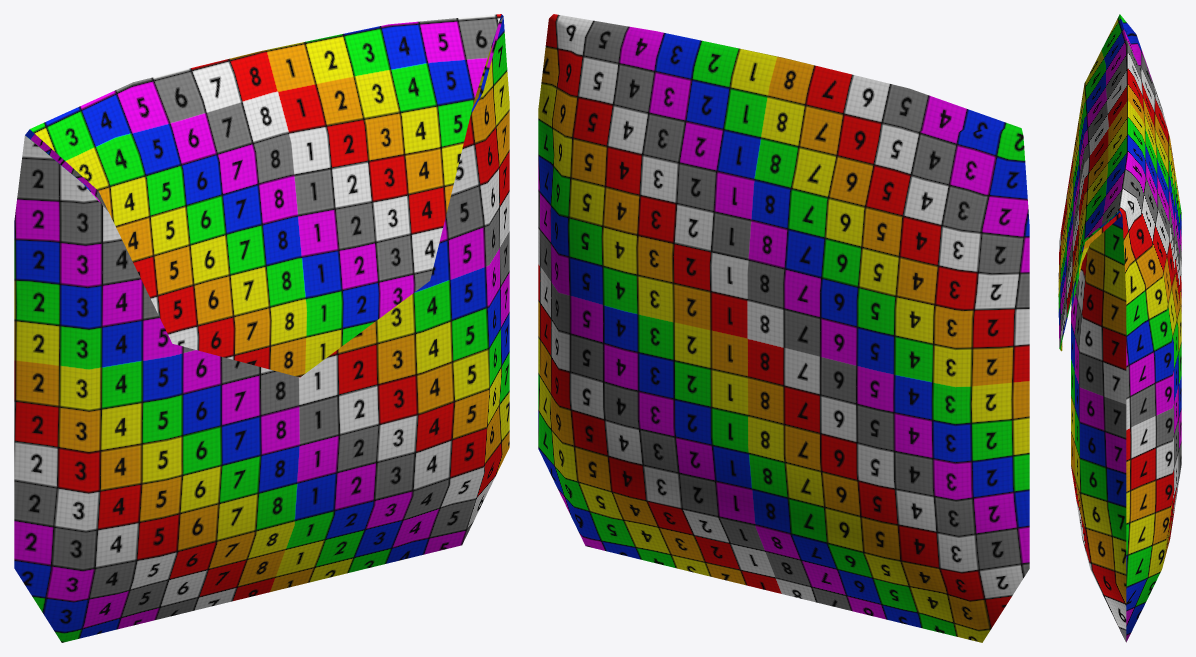
The model's file is e_enveloppe_fermee - Copy.fbx.
3 views of the same model, side by side, from view 1: azimuth 30°, elevation 25°; view 2: azimuth 150°, elevation 25°; view 3: azimuth 270°, elevation 25° (orthographic). The views are drawn at different scales.
Parts seen in each view (by area): view 1: e_enveloppe_fermee1; view 2: e_enveloppe_fermee1; view 3: e_enveloppe_fermee1.
Boxes of the visible parts, x1,y1,x2,y2 form: e_enveloppe_fermee1: (14,14,509,642); e_enveloppe_fermee1: (538,14,1029,642); e_enveloppe_fermee1: (1058,14,1181,642).
Bounding box in the file's own units: 1.02 × 1.07 × 0.2578.
1 material, 1 textured.
